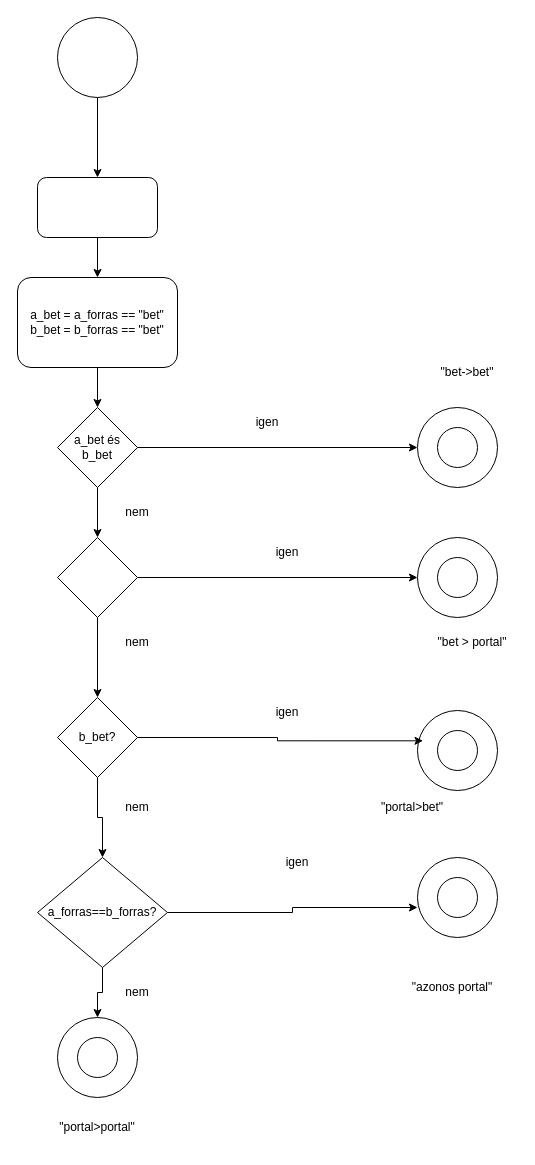
Image size: 535x1165. Some labels were removed from this diagram. The shapes that lost their labels are listed below. From the top down, each one's box as (x1, y1, x2, y2) in pixels, then its label:
(36, 176, 158, 238): Bemenet: a_forras,b_forras: (str)
(56, 536, 138, 618): a_bet?
